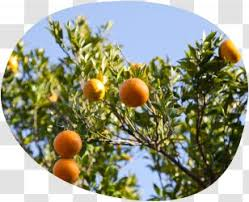orange: (114, 75, 150, 106), (53, 127, 84, 156), (50, 158, 82, 183), (82, 75, 106, 101)
